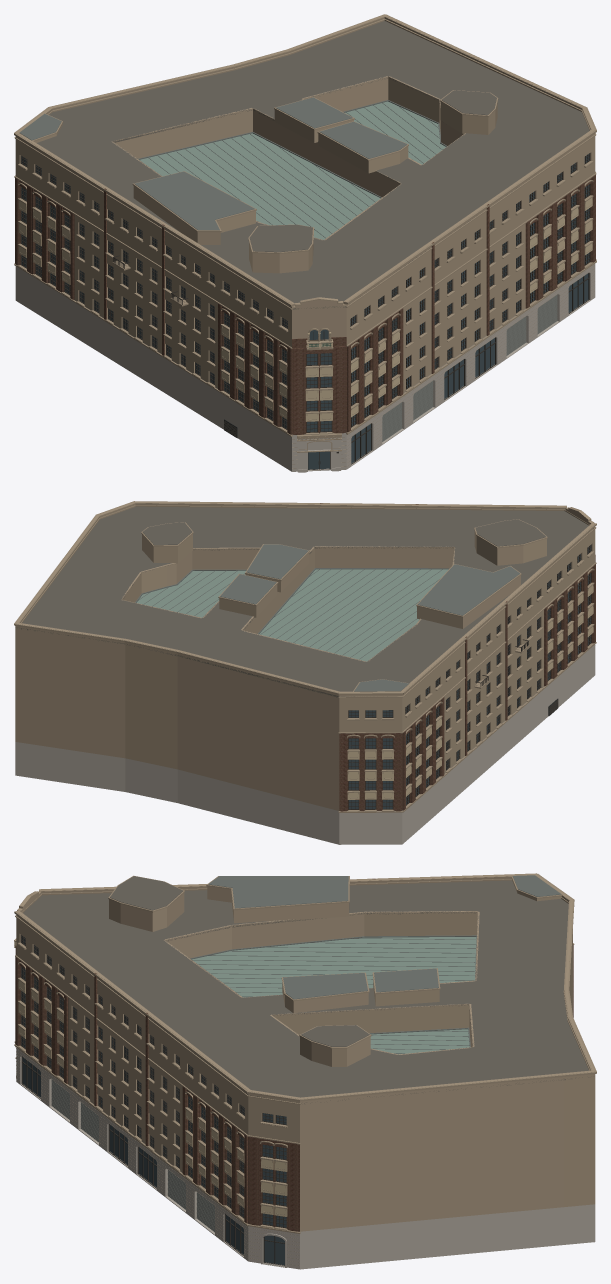
File: hongkou-derring-apartments-corner-courts-raw.glb
3 renders of one model, top to bottom at view 1: azimuth 30°, elevation 25°; view 2: azimuth 150°, elevation 25°; view 3: azimuth 270°, elevation 25°, orthographic. The views are drawn at different scales.
Parts seen in each view (by area): view 1: 德邻公寓街角与双天井; view 2: 德邻公寓街角与双天井; view 3: 德邻公寓街角与双天井.
Part boxes in pixels (x1=…): 德邻公寓街角与双天井: x1=14, y1=14, x2=596, y2=472; 德邻公寓街角与双天井: x1=14, y1=501, x2=596, y2=844; 德邻公寓街角与双天井: x1=14, y1=873, x2=596, y2=1269.
Bounding box in the file's own units: 62.41 × 24.16 × 67.87.
13 materials, 1 textured.
